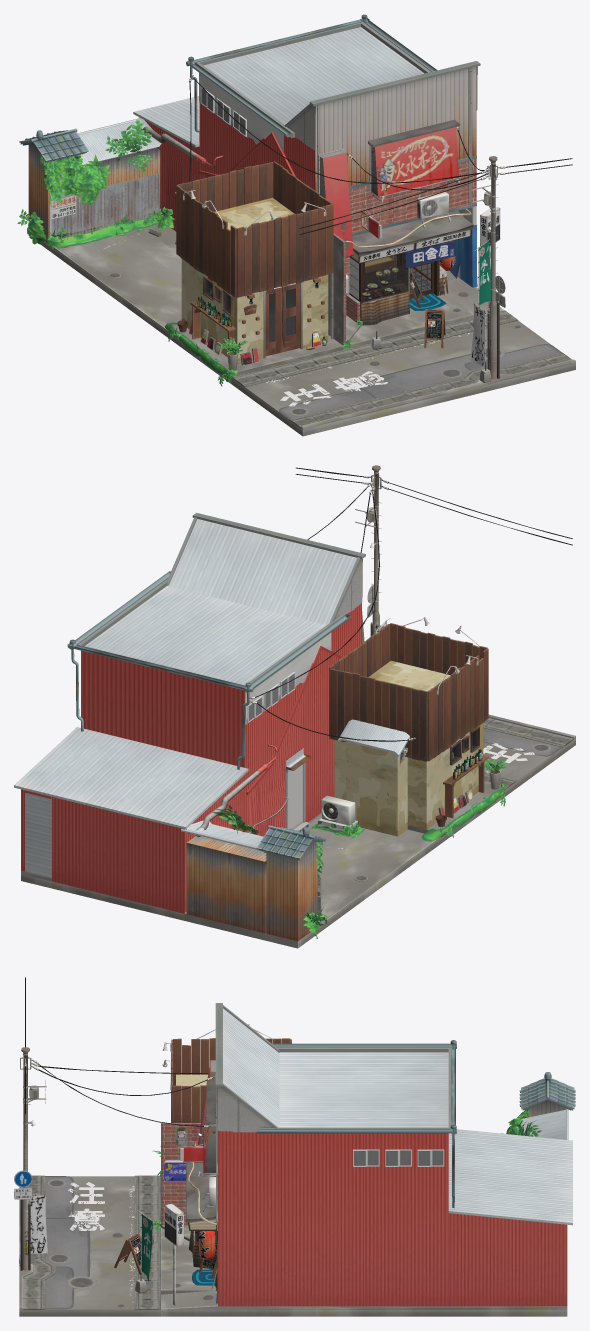
File: int_inakaya.glb
3 views of the same model, one above another, from view 1: azimuth 30°, elevation 25°; view 2: azimuth 150°, elevation 25°; view 3: azimuth 270°, elevation 25° (orthographic).
Parts seen in each view (by area): view 1: Inakaya; view 2: Inakaya; view 3: Inakaya.
Boxes of the visible parts, box(x1,y1,x2,y2) form: Inakaya: box(17, 14, 575, 436); Inakaya: box(14, 465, 575, 948); Inakaya: box(14, 977, 575, 1316).
Size of the model in its own units: 8.38 by 6.32 by 13.35.
5 materials, 3 textured.
